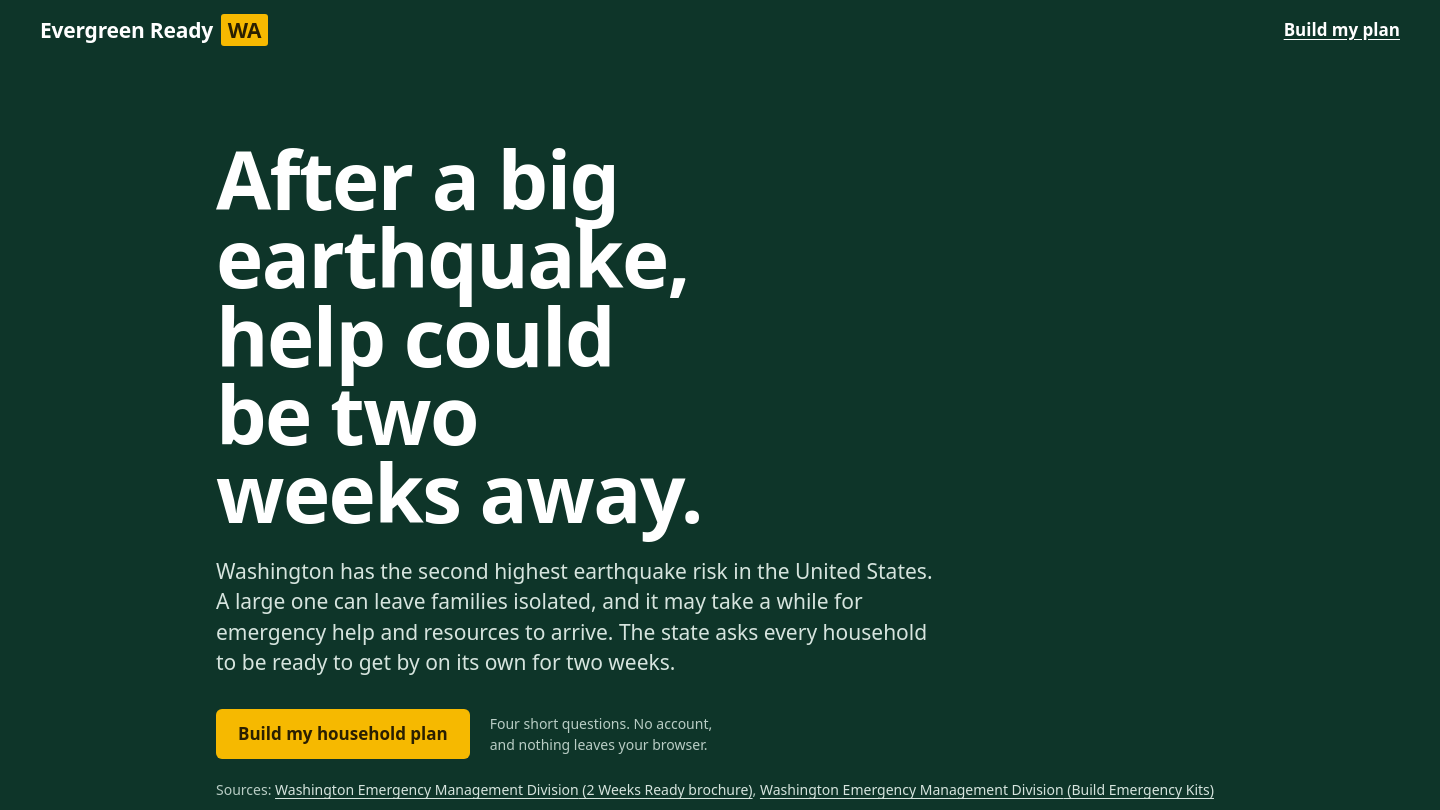
Test: Evergreen Ready › will not continue with nobody in the household
Click the button "Build my household plan" at (343, 734), box 216,709 -> 470,759
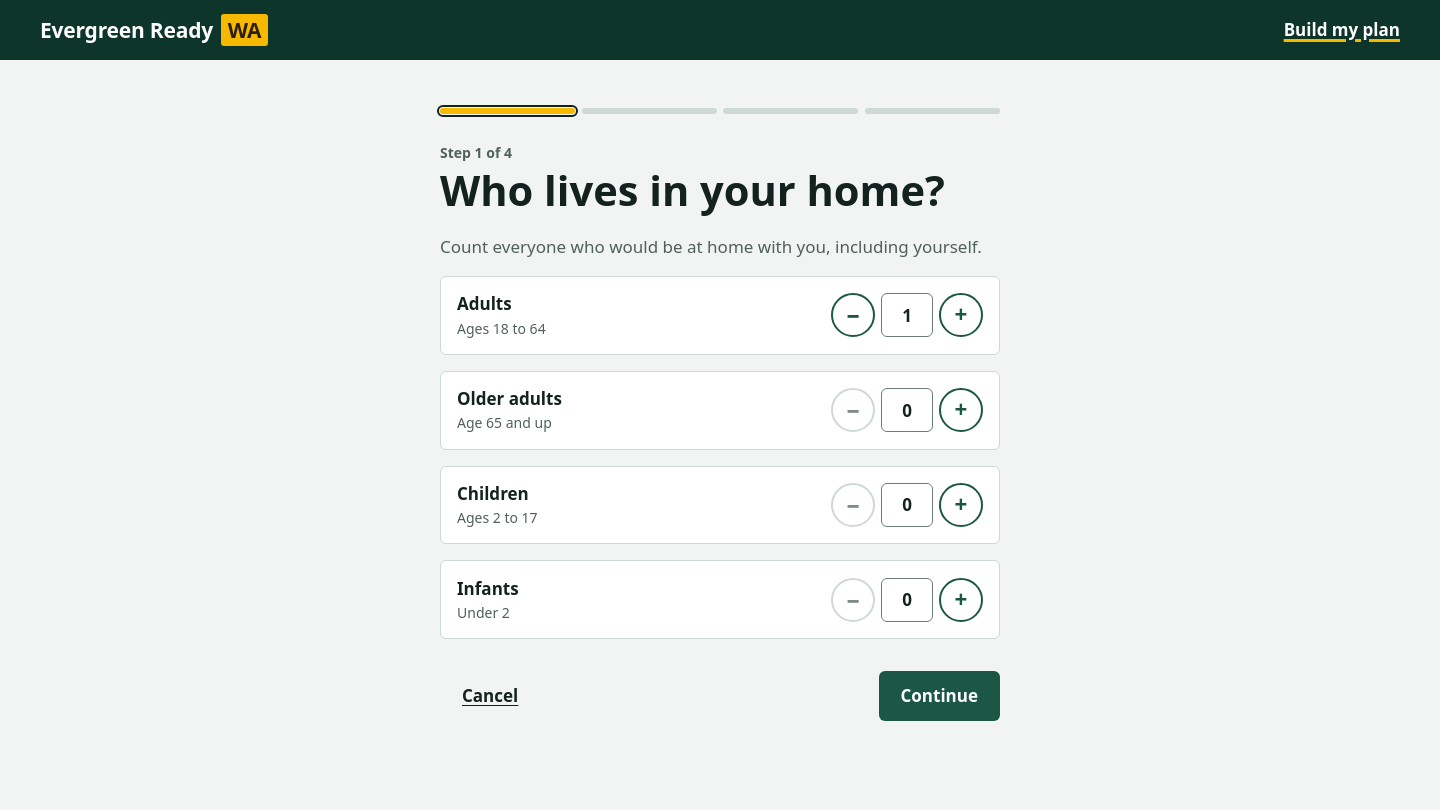
Click the button named "One fewer: Adults" at (853, 315), box 831,293 -> 875,337
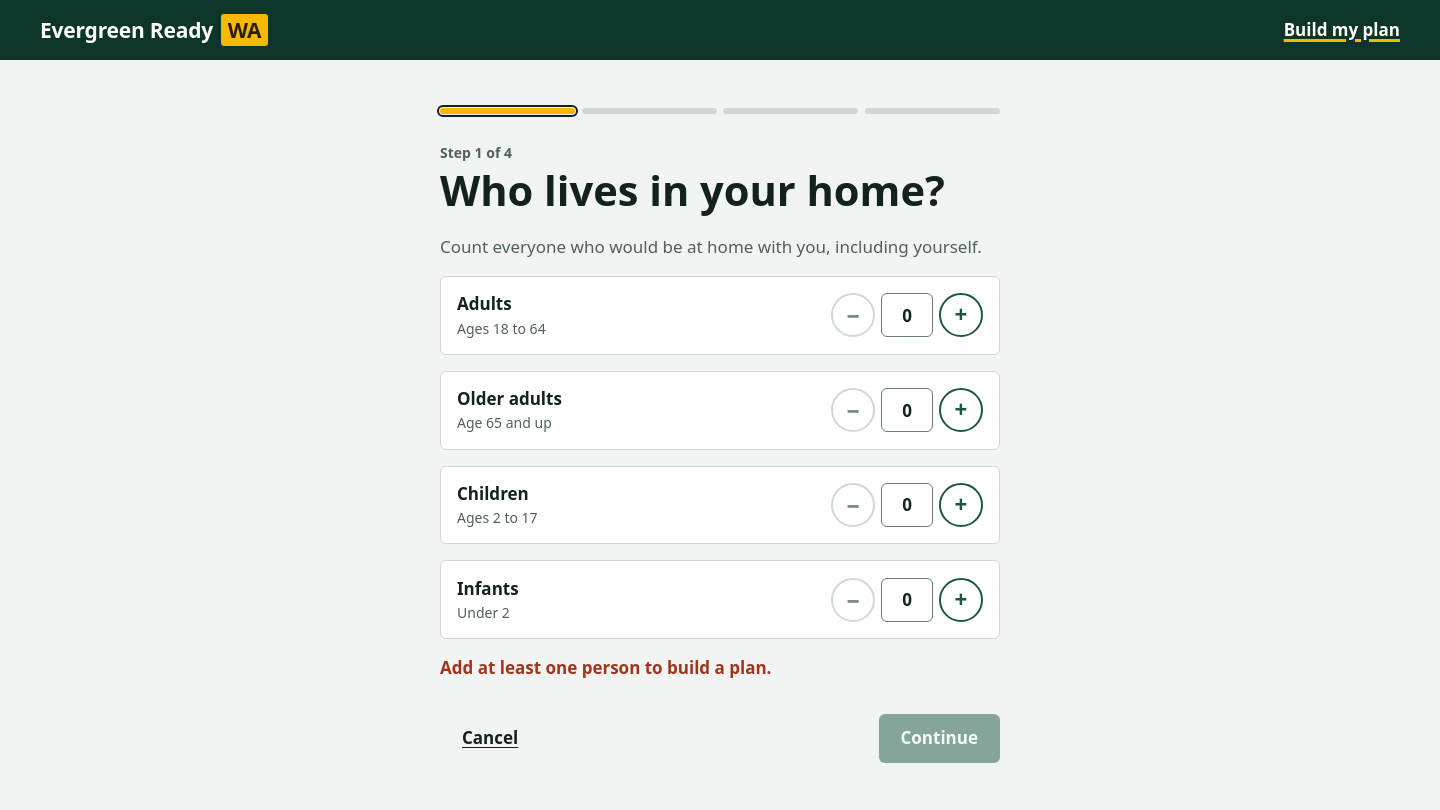
Now the message shows "Add at least one person", box 440,656 -> 772,679
Now the button "Continue" is disabled, box 878,714 -> 1000,763
